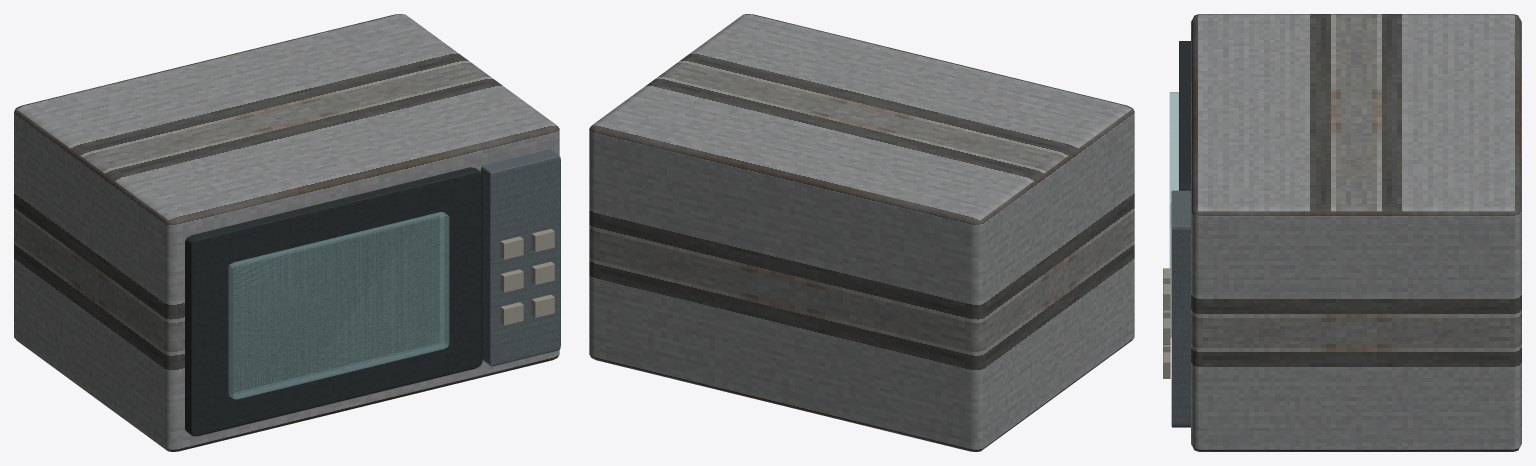
The model's file is microwave.glb.
3 renders of one model, left to right at view 1: azimuth 30°, elevation 25°; view 2: azimuth 150°, elevation 25°; view 3: azimuth 270°, elevation 25°, orthographic. The views are drawn at different scales.
Visible parts, largest first — view 1: case, door, window, panel; view 2: case; view 3: case, panel, door, window.
Boxes of the visible parts, <box> form: case: <box>14,14,559,451</box>; door: <box>185,167,482,436</box>; window: <box>228,212,449,399</box>; panel: <box>480,149,560,366</box>; case: <box>589,14,1134,451</box>; case: <box>1191,14,1521,451</box>; panel: <box>1171,190,1190,427</box>; door: <box>1179,41,1190,190</box>; window: <box>1169,92,1178,337</box>.
Size of the model in its own units: 0.51 by 0.29 by 0.386.
Materials: 5 (5 with a texture image).
